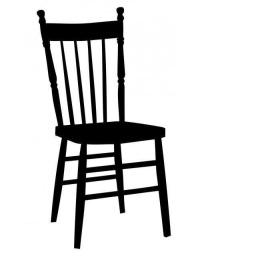Chair: (36, 9, 167, 249)
